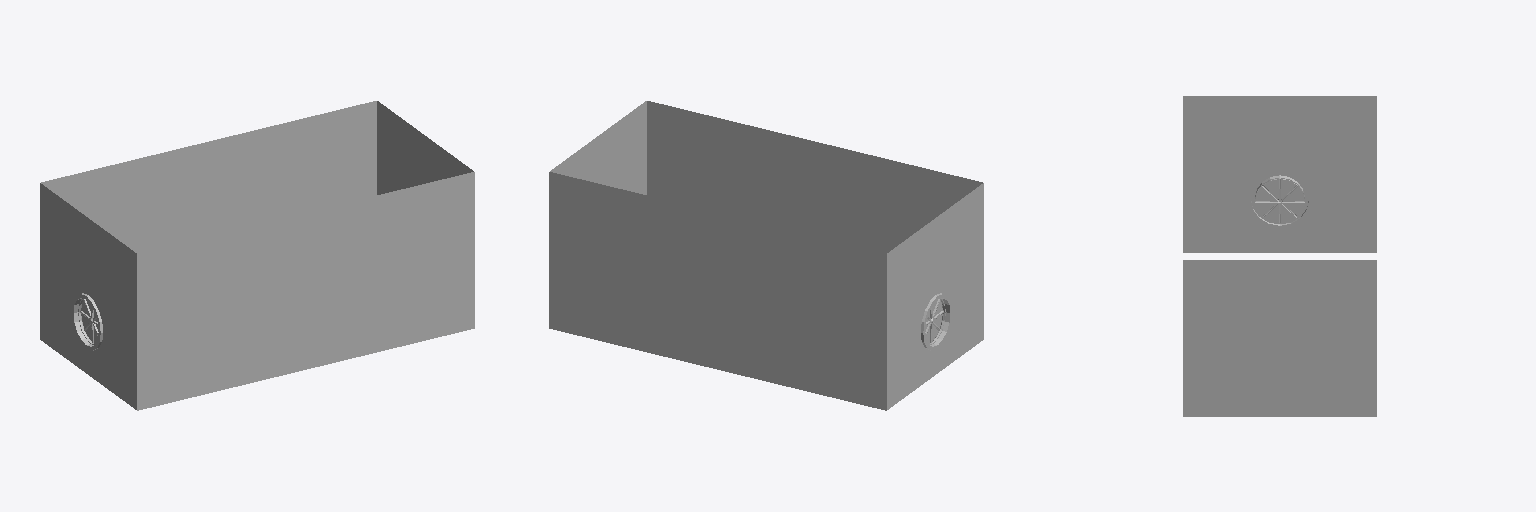
File: Middle.obj
The picture shows the model from 3 angles: view 1: azimuth 30°, elevation 25°; view 2: azimuth 150°, elevation 25°; view 3: azimuth 270°, elevation 25°; orthographic projection.
Size of the model in its own units: 806 by 356 by 400.